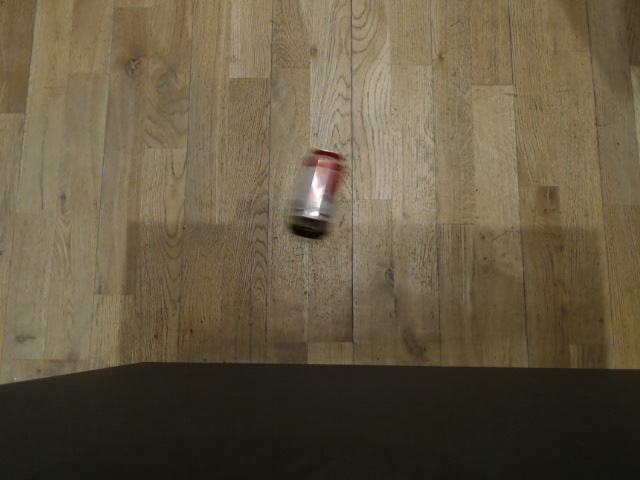coke: (285, 147, 345, 236)
